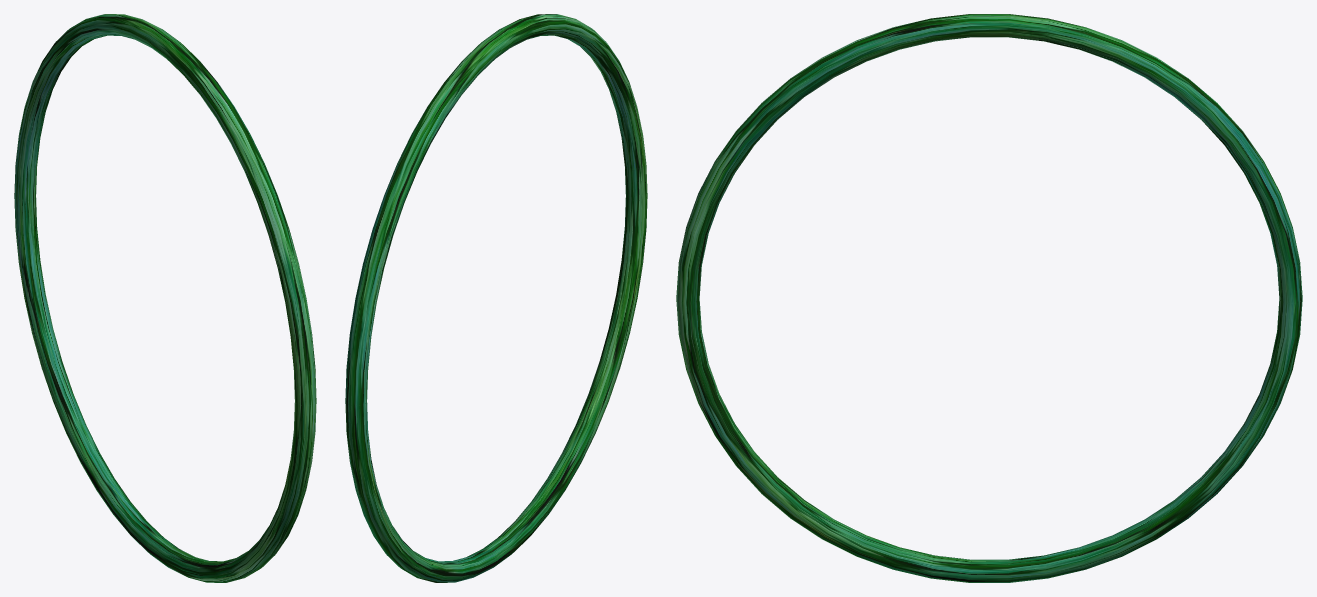
Rendered from tubeMesh.obj.
The picture shows the model from 3 angles, left to right: view 1: azimuth 30°, elevation 25°; view 2: azimuth 150°, elevation 25°; view 3: azimuth 270°, elevation 25°; orthographic projection. The views are drawn at different scales.
Visible parts, largest first — view 1: mesh2; view 2: mesh2; view 3: mesh2.
Part boxes in pixels (box(x1,y1,x2,y2)): mesh2: box(14, 14, 316, 582); mesh2: box(345, 14, 647, 582); mesh2: box(676, 14, 1302, 582).
Size of the model in its own units: 4.69 by 125 by 126.
1 material, 1 textured.
